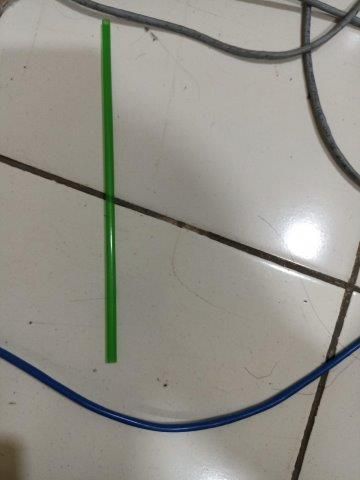sedotan: (101, 18, 116, 364)
